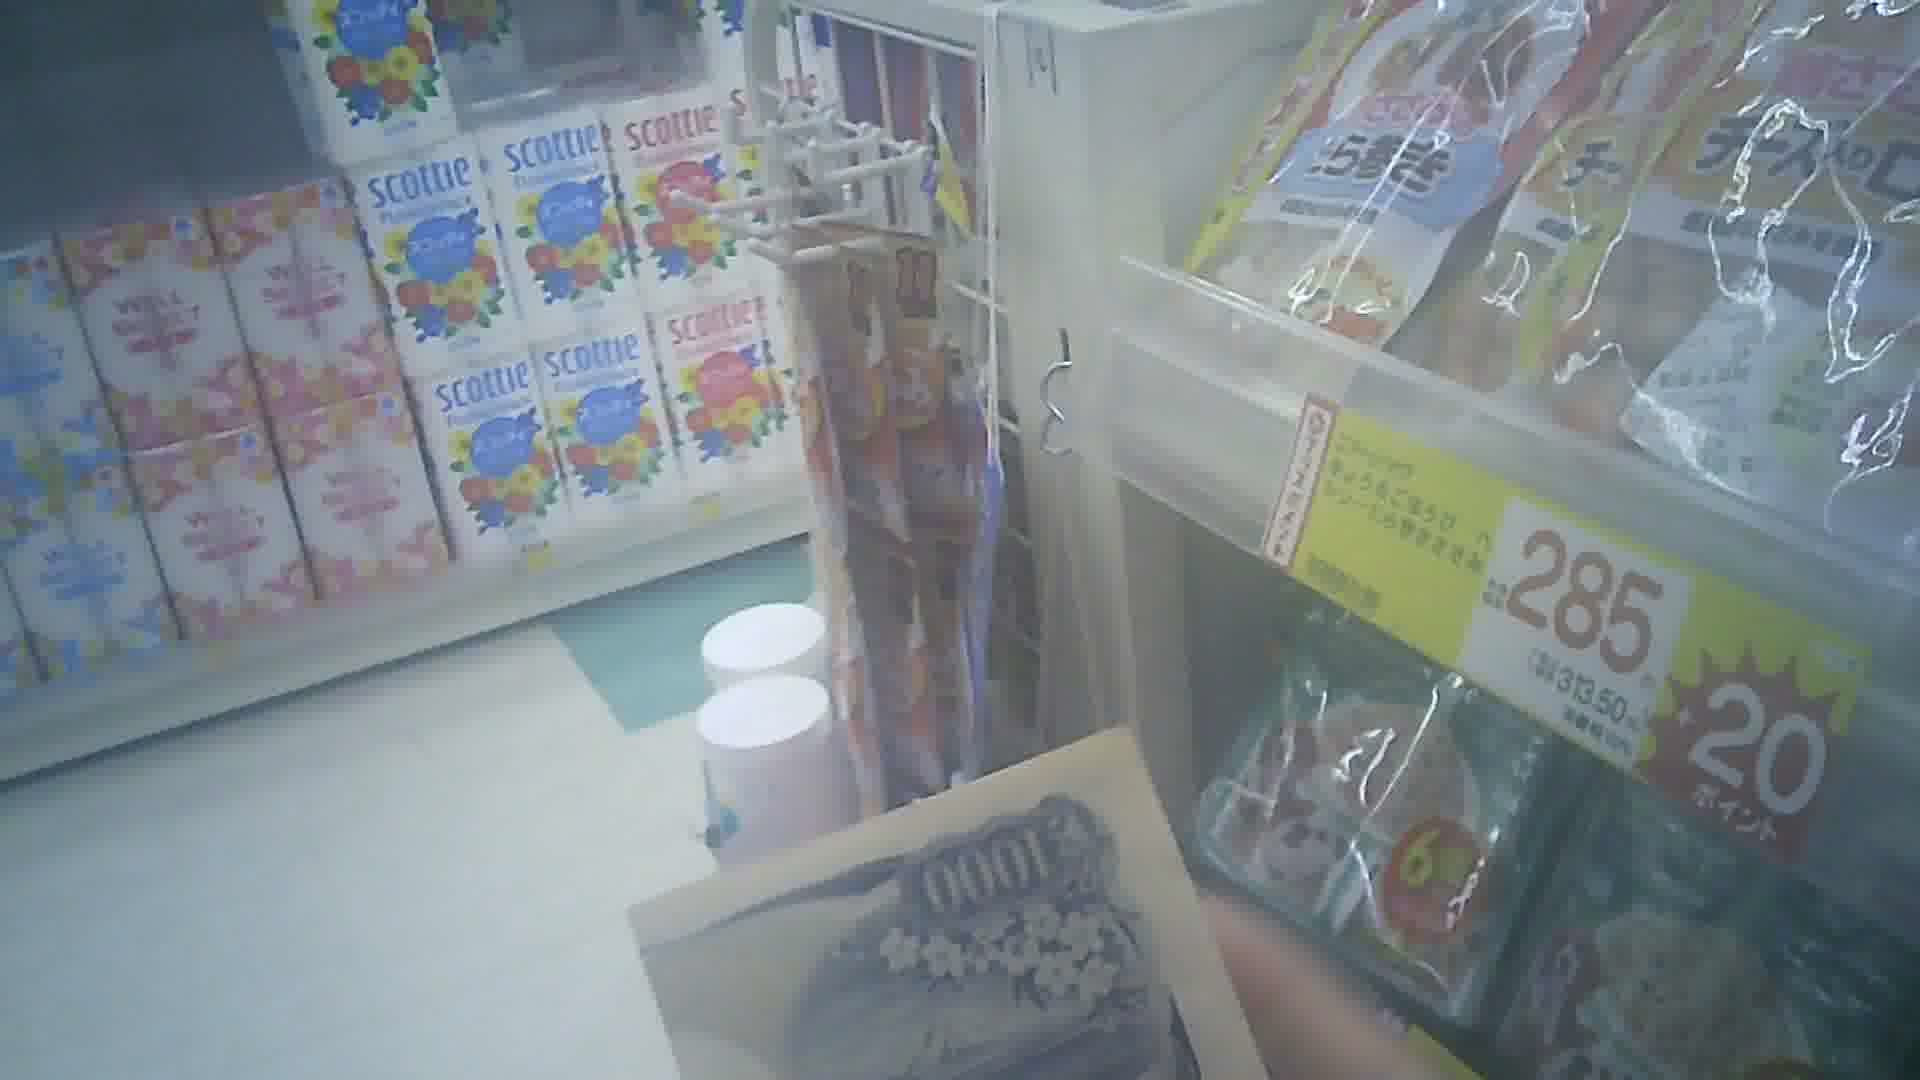1,000 Yen: (628, 742, 1244, 1073)
